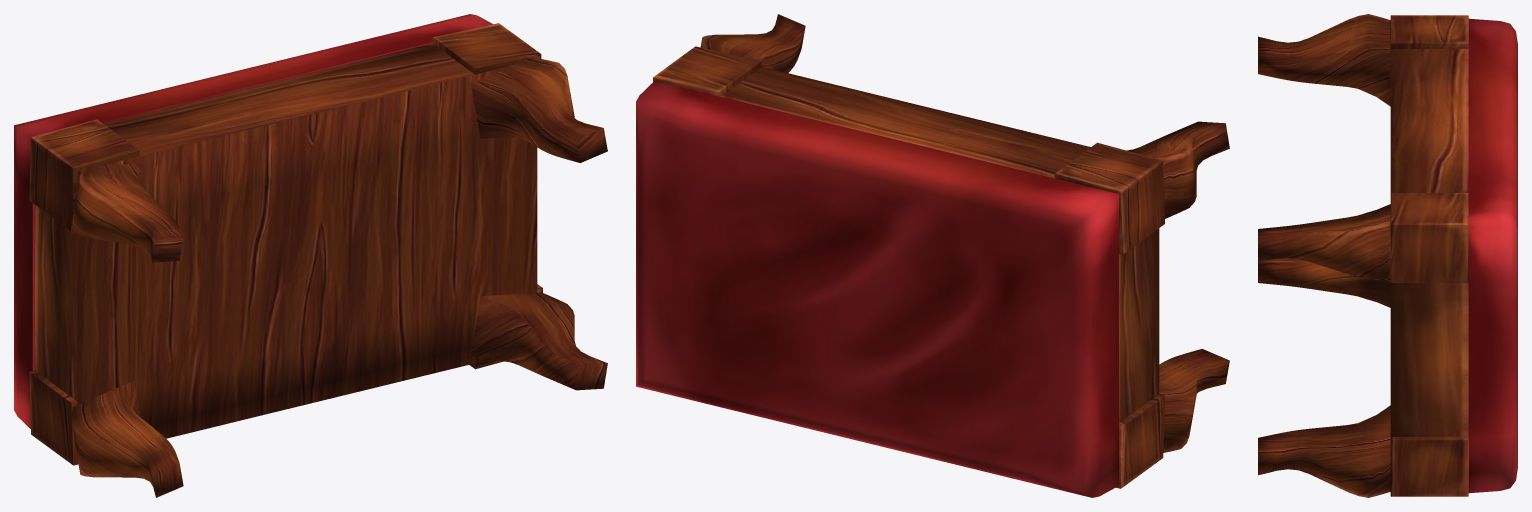
Rendered from Apoya Pies Fin.FBX.
The picture shows the model from 3 angles, left to right: view 1: azimuth 30°, elevation 25°; view 2: azimuth 150°, elevation 25°; view 3: azimuth 270°, elevation 25°; orthographic projection. The views are drawn at different scales.
Visible parts, largest first — view 1: Apoya pies; view 2: Apoya pies; view 3: Apoya pies.
Part boxes in pixels (x1=…): Apoya pies: x1=14, y1=14, x2=607, y2=497; Apoya pies: x1=636, y1=14, x2=1229, y2=497; Apoya pies: x1=1258, y1=14, x2=1517, y2=497.
Bounding box in the file's own units: 53.94 × 31.33 × 26.73.
1 material, 1 textured.
